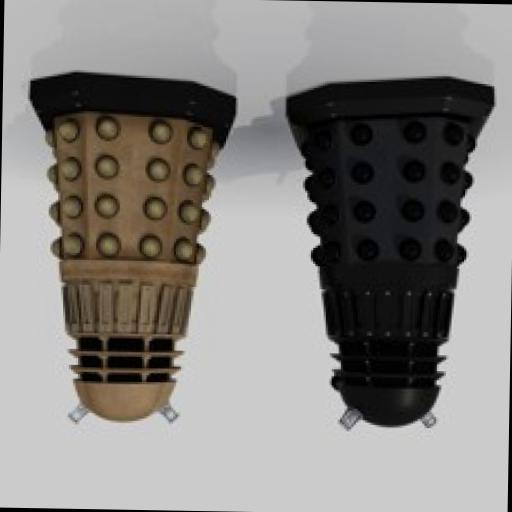dalek: (22, 56, 244, 444), (277, 68, 500, 450)
